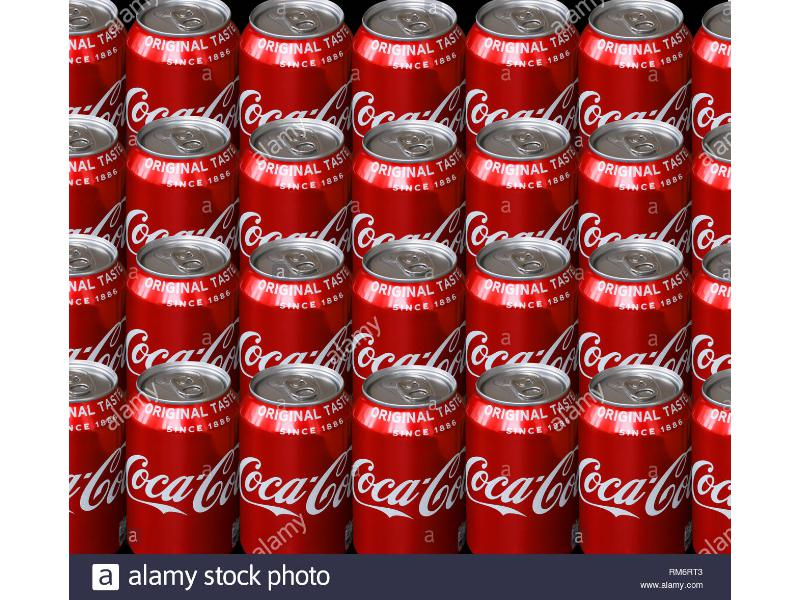can: (241, 361, 353, 557), (355, 364, 465, 551), (465, 368, 578, 550), (124, 359, 233, 547), (581, 369, 688, 547), (123, 231, 238, 366), (351, 238, 464, 374), (576, 235, 693, 366), (236, 236, 351, 364), (464, 240, 577, 366), (462, 116, 577, 238), (578, 115, 690, 239), (236, 115, 349, 236), (578, 0, 689, 122), (123, 114, 237, 232), (349, 116, 460, 237), (353, 0, 464, 120), (237, 1, 349, 118), (468, 1, 576, 121), (128, 2, 240, 113), (69, 355, 123, 553), (692, 373, 733, 557), (69, 229, 124, 357), (69, 113, 121, 237), (69, 0, 123, 114), (694, 244, 734, 372), (694, 1, 731, 126), (690, 126, 730, 241)
